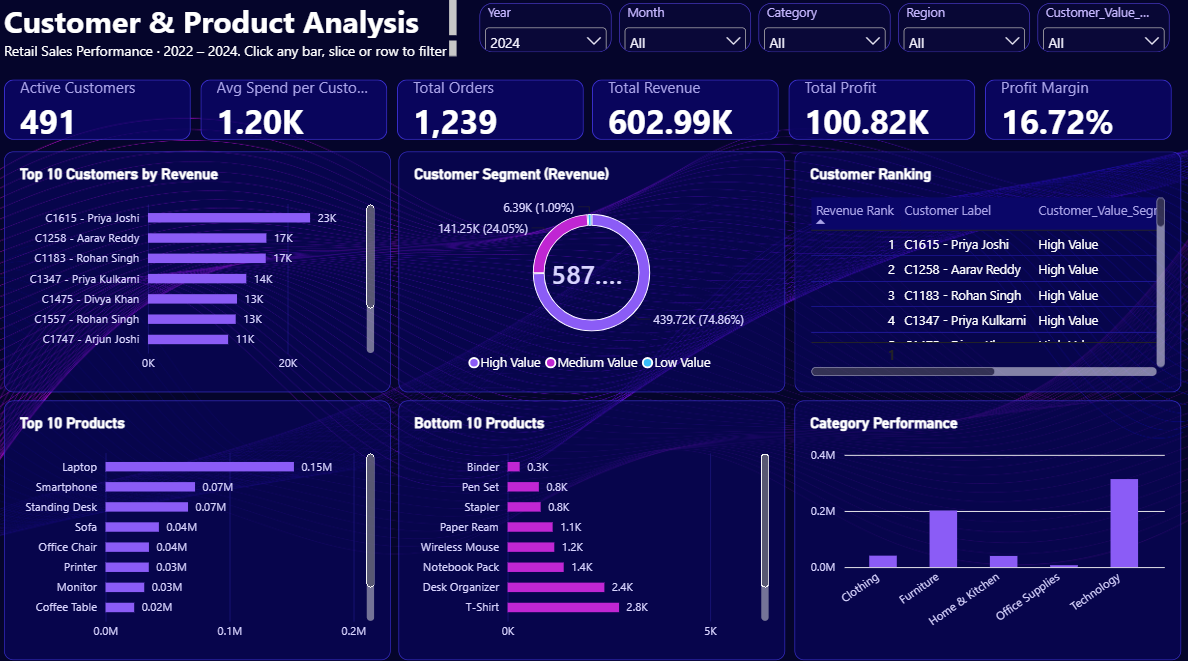

What the dashboard file says about the page in this screenshot:
{"tool":"powerbi","page":{"name":"Customer & Product","canvas":[1280,720],"ordinal":1},"visuals":[{"type":"slicer","title":"Year","fields":{"Values":["DimDate.Year"]},"box":[520,12,140,52],"z":0},{"type":"slicer","title":"Year","fields":{"Values":["DimDate.Month"]},"box":[668,12,140,52],"z":1},{"type":"slicer","title":"Year","fields":{"Values":["FactSales.Ship_Region"]},"box":[964,12,140,52],"z":2},{"type":"slicer","title":"Year","fields":{"Values":["DimProduct.Category"]},"box":[816,12,140,52],"z":3},{"type":"textbox","box":[16,10,480,40],"z":4},{"type":"textbox","box":[16,52.5,480,20],"z":5},{"type":"slicer","title":"Year","fields":{"Values":["DimCustomer.Customer_Value_Segment"]},"box":[1112,12,140,52],"z":6},{"type":"cardVisual","fields":{"Data":["FactSales.Active Customers"]},"box":[16,94,198,64],"z":7},{"type":"cardVisual","fields":{"Data":["FactSales.Avg Spend per Customer"]},"box":[224.3,94,198,64],"z":8},{"type":"cardVisual","fields":{"Data":["FactSales.Total Orders"]},"box":[432,94,198,64],"z":9},{"type":"cardVisual","fields":{"Data":["FactSales.Total Revenue"]},"box":[640,94,198,64],"z":10},{"type":"cardVisual","fields":{"Data":["FactSales.Total Profit"]},"box":[848,94,198,64],"z":11},{"type":"cardVisual","fields":{"Data":["FactSales.Profit Margin"]},"box":[1056,94,198,64],"z":12},{"type":"clusteredBarChart","title":"Top 10 Customers by Revenue","fields":{"Category":["DimCustomer.Customer Label"],"Y":["FactSales.Total Revenue"]},"box":[16,170,410,255],"z":13},{"type":"donutChart","title":"Customer Segment (Revenue)","fields":{"Category":["DimCustomer.Customer_Value_Segment"],"Y":["FactSales.Total Revenue"]},"box":[435,170,410,255],"z":14},{"type":"tableEx","title":"Customer Ranking","fields":{"Values":["FactSales.Revenue Rank","DimCustomer.Customer Label","DimCustomer.Customer_Value_Segment","FactSales.Total Orders","FactSales.Total Revenue","FactSales.Revenue Share %"]},"box":[854,170,410,255],"z":15},{"type":"clusteredBarChart","title":"Top 10 Products","fields":{"Category":["DimProduct.Product_Name"],"Y":["FactSales.Total Revenue"]},"box":[16,435,410,275],"z":16},{"type":"clusteredBarChart","title":"Bottom 10 Products","fields":{"Category":["DimProduct.Product_Name"],"Y":["FactSales.Total Revenue"]},"box":[435,435,410,275],"z":17},{"type":"clusteredColumnChart","title":"Category Performance","fields":{"Category":["DimProduct.Category","DimProduct.Product_Name"],"Y":["FactSales.Total Revenue"]},"box":[854,435,410,275],"z":18}]}

Visuals, with their boxes in screenshot pixels (x1, y1, x2, y2), scaled from the page's 1280x720 canvas onto the 1188x661 screenshot:
"Year" slicer: <bbox>483, 11, 613, 59</bbox>
"Year" slicer: <bbox>620, 11, 750, 59</bbox>
"Year" slicer: <bbox>895, 11, 1025, 59</bbox>
"Year" slicer: <bbox>757, 11, 887, 59</bbox>
textbox: <bbox>15, 9, 460, 46</bbox>
textbox: <bbox>15, 48, 460, 67</bbox>
"Year" slicer: <bbox>1032, 11, 1162, 59</bbox>
cardVisual - FactSales.Active Customers: <bbox>15, 86, 199, 145</bbox>
cardVisual - FactSales.Avg Spend per Customer: <bbox>208, 86, 392, 145</bbox>
cardVisual - FactSales.Total Orders: <bbox>401, 86, 585, 145</bbox>
cardVisual - FactSales.Total Revenue: <bbox>594, 86, 778, 145</bbox>
cardVisual - FactSales.Total Profit: <bbox>787, 86, 971, 145</bbox>
cardVisual - FactSales.Profit Margin: <bbox>980, 86, 1164, 145</bbox>
"Top 10 Customers by Revenue" clusteredBarChart: <bbox>15, 156, 395, 390</bbox>
"Customer Segment (Revenue)" donutChart: <bbox>404, 156, 784, 390</bbox>
"Customer Ranking" tableEx: <bbox>793, 156, 1173, 390</bbox>
"Top 10 Products" clusteredBarChart: <bbox>15, 399, 395, 652</bbox>
"Bottom 10 Products" clusteredBarChart: <bbox>404, 399, 784, 652</bbox>
"Category Performance" clusteredColumnChart: <bbox>793, 399, 1173, 652</bbox>
